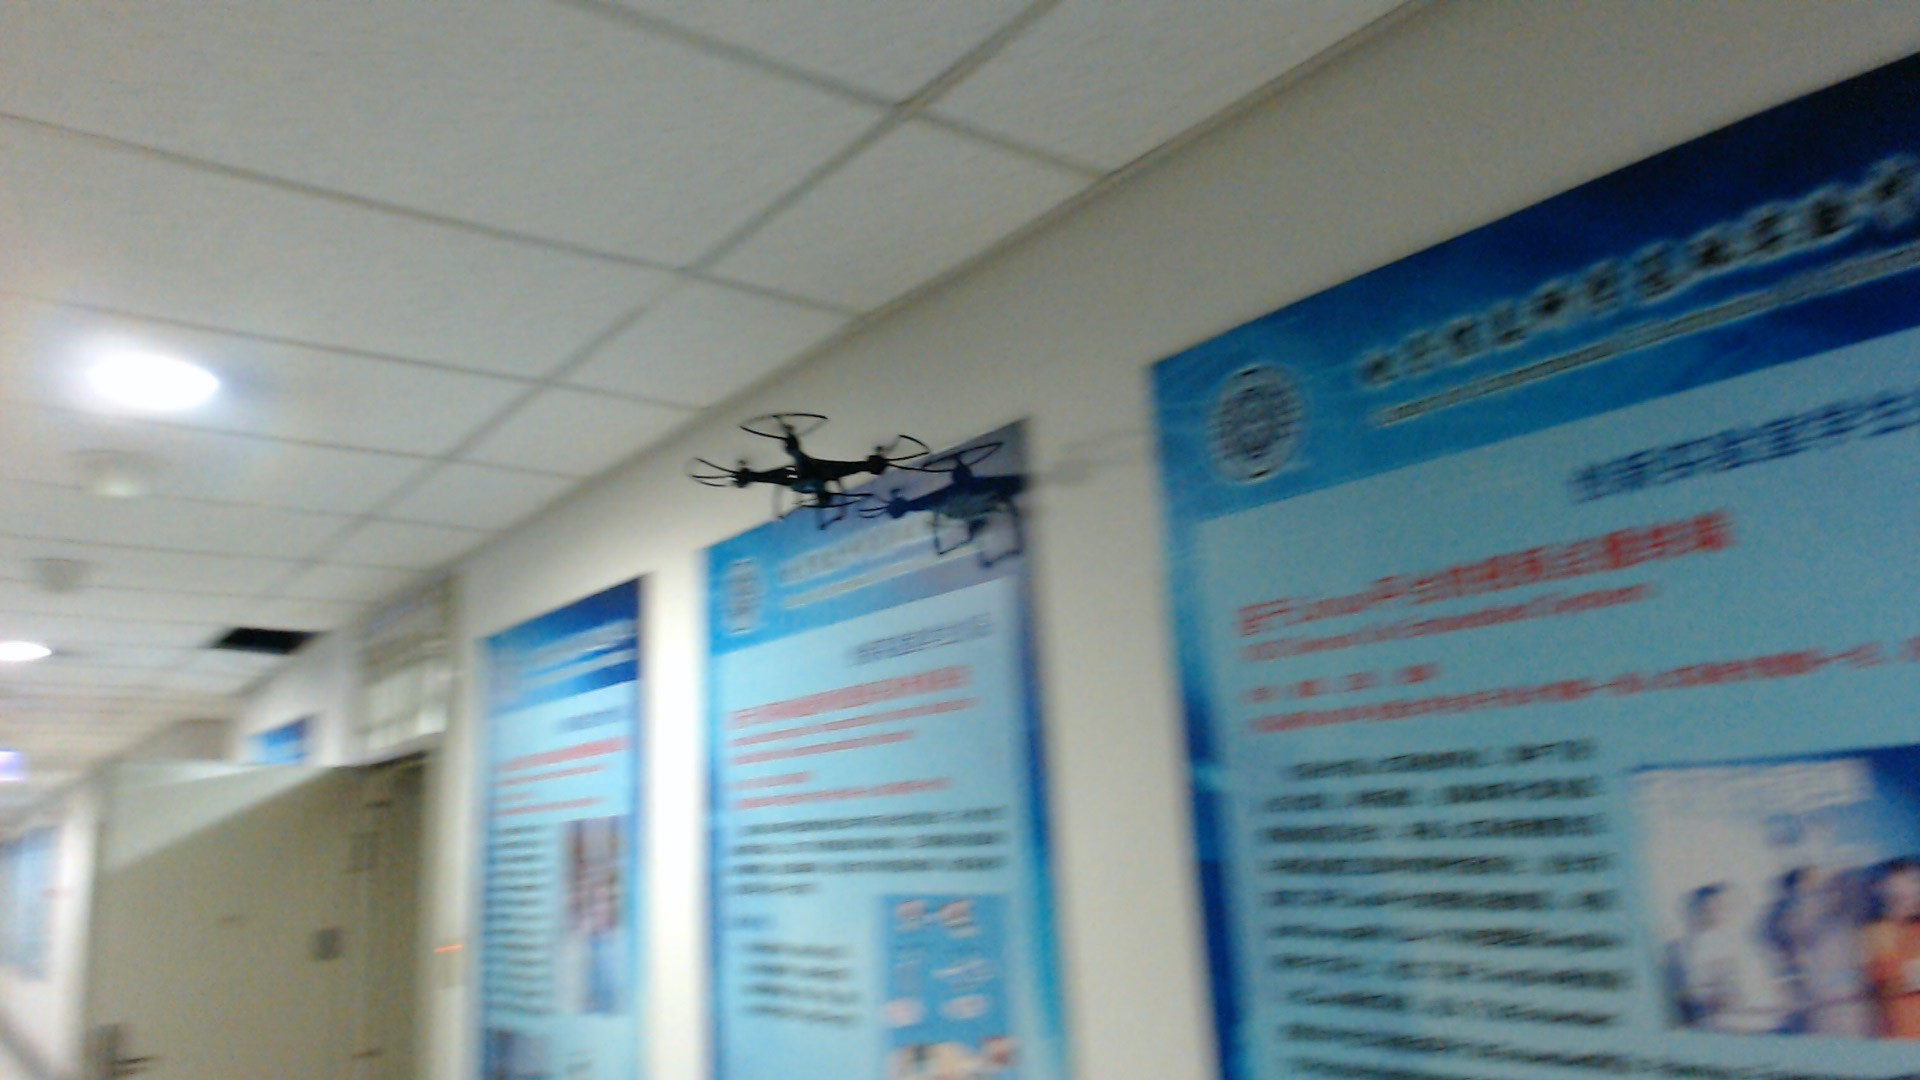drone: (688, 410, 936, 534)
drone_shadow: (861, 442, 1075, 572)
